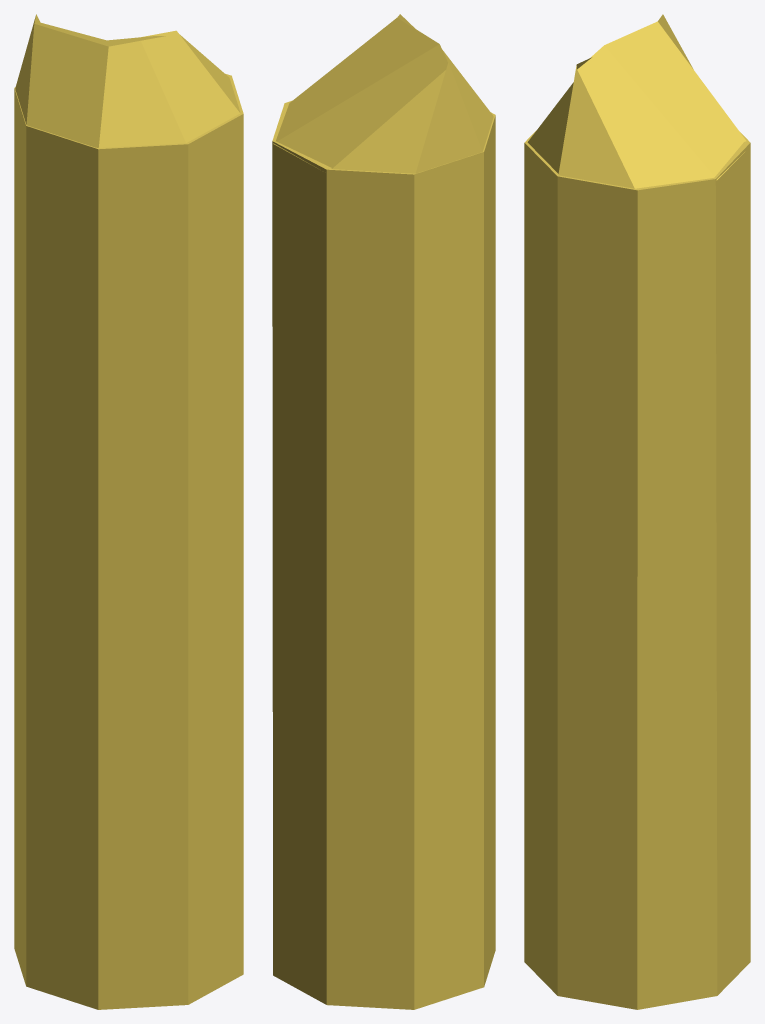
File: keyfragment.fbx
3 views of the same model, side by side, from view 1: azimuth 30°, elevation 25°; view 2: azimuth 150°, elevation 25°; view 3: azimuth 270°, elevation 25° (orthographic). The views are drawn at different scales.
Visible parts, largest first — view 1: Cylinder.001; view 2: Cylinder.001; view 3: Cylinder.001.
Boxes of the visible parts, <box> form: Cylinder.001: <box>14,14,243,1009</box>; Cylinder.001: <box>272,14,495,1009</box>; Cylinder.001: <box>524,14,750,1009</box>.
Size of the model in its own units: 3 by 13.34 by 3.
